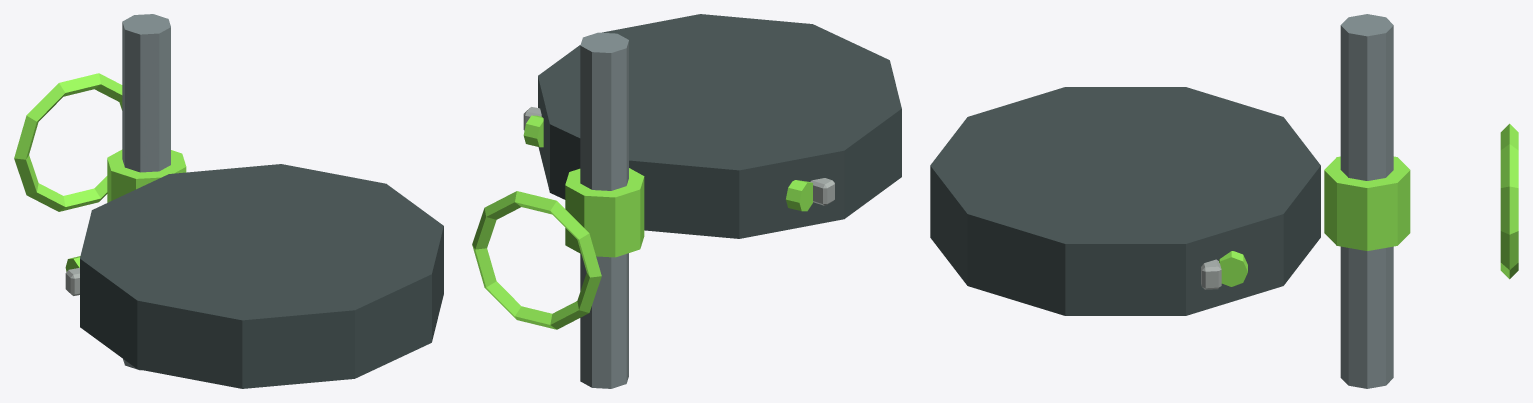
File: RelayBeacon.fbx
3 renders of one model, left to right at view 1: azimuth 30°, elevation 25°; view 2: azimuth 150°, elevation 25°; view 3: azimuth 270°, elevation 25°, orthographic. The views are drawn at different scales.
Visible parts, largest first — view 1: RelayBase, RelayMast, RelayRing, RelayCore, RelayArm; view 2: RelayBase, RelayMast, RelayRing, RelayCore, RelayLight, RelayLight.001, RelayArm; view 3: RelayBase, RelayMast, RelayCore, RelayRing, RelayLight.001, RelayArm.001.
Boxes of the visible parts, box(x1,y1,x2,y2) form: RelayBase: box(80, 164, 443, 388); RelayMast: box(122, 14, 170, 370); RelayRing: box(14, 73, 122, 211); RelayCore: box(107, 149, 186, 202); RelayArm: box(65, 268, 79, 295); RelayBase: box(538, 14, 901, 238); RelayMast: box(580, 32, 628, 388); RelayRing: box(472, 191, 601, 329); RelayCore: box(565, 168, 644, 257); RelayLight: box(786, 180, 813, 211); RelayLight.001: box(523, 115, 543, 147); RelayArm: box(810, 178, 834, 205); RelayBase: box(930, 87, 1320, 315); RelayMast: box(1340, 14, 1393, 388); RelayCore: box(1324, 156, 1410, 250); RelayRing: box(1500, 123, 1518, 279); RelayLight.001: box(1219, 251, 1247, 286); RelayArm.001: box(1201, 259, 1221, 289).
Size of the model in its own units: 224 by 235 by 355.
